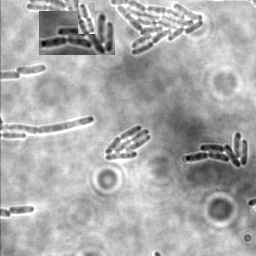Dividing: (1, 114, 95, 133), (238, 207, 250, 251), (8, 204, 35, 215)
Microcolony: (168, 102, 228, 236), (109, 1, 205, 56), (25, 1, 94, 44), (212, 165, 248, 226), (62, 177, 109, 219), (103, 124, 150, 160), (16, 63, 48, 74)
